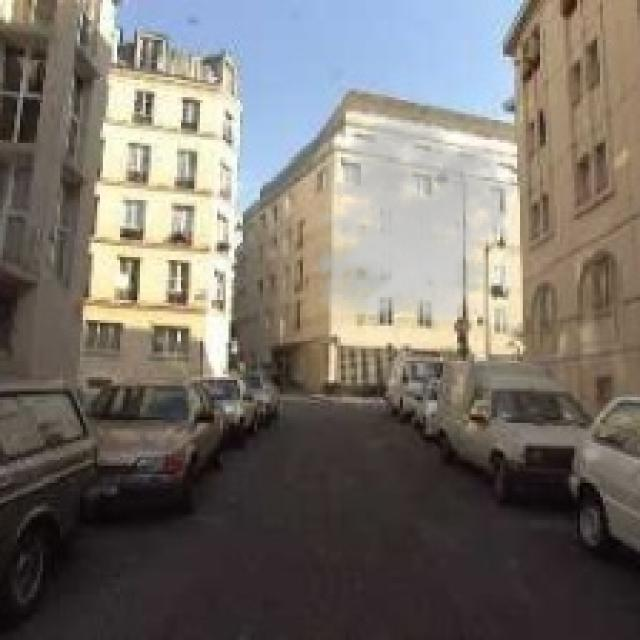smoke: (303, 117, 517, 332)
